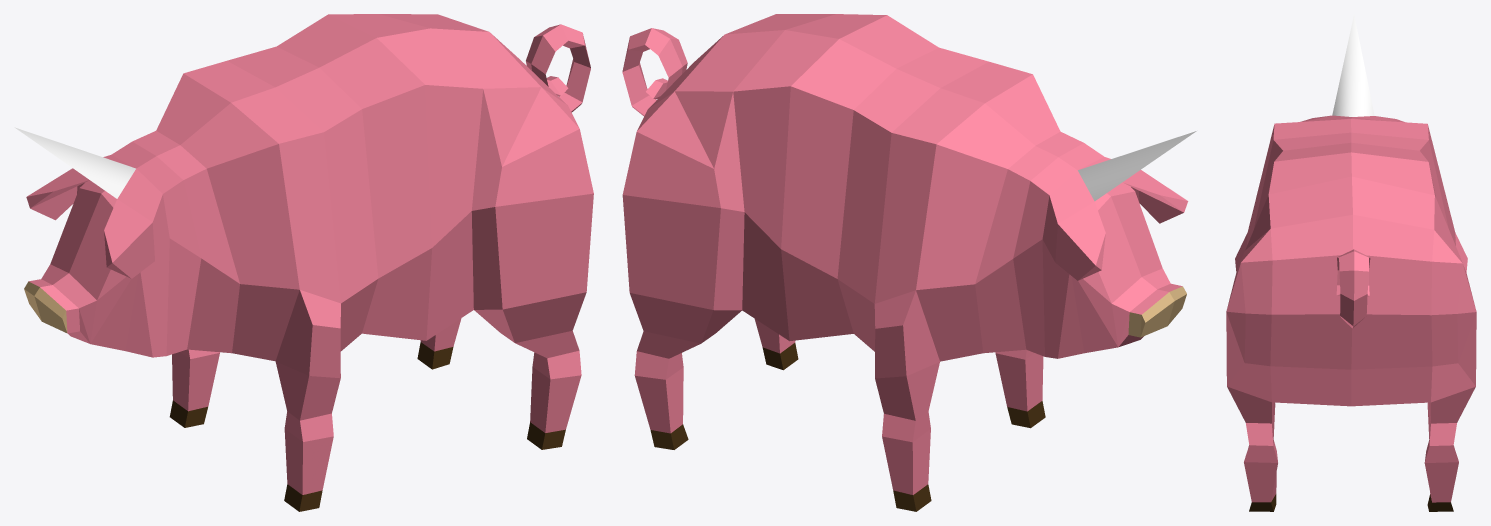
File: Pig.obj
3 renders of one model, left to right at view 1: azimuth 30°, elevation 25°; view 2: azimuth 150°, elevation 25°; view 3: azimuth 270°, elevation 25°, orthographic. The views are drawn at different scales.
Parts seen in each view (by area): view 1: Pig_Cylinder; view 2: Pig_Cylinder; view 3: Pig_Cylinder.
Part boxes in pixels (x1,y1,x2,y2): Pig_Cylinder: [14, 14, 593, 511]; Pig_Cylinder: [622, 14, 1196, 511]; Pig_Cylinder: [1226, 14, 1476, 511].
Size of the model in its own units: 23.5 by 15.31 by 11.11.
1 material, 1 textured.
